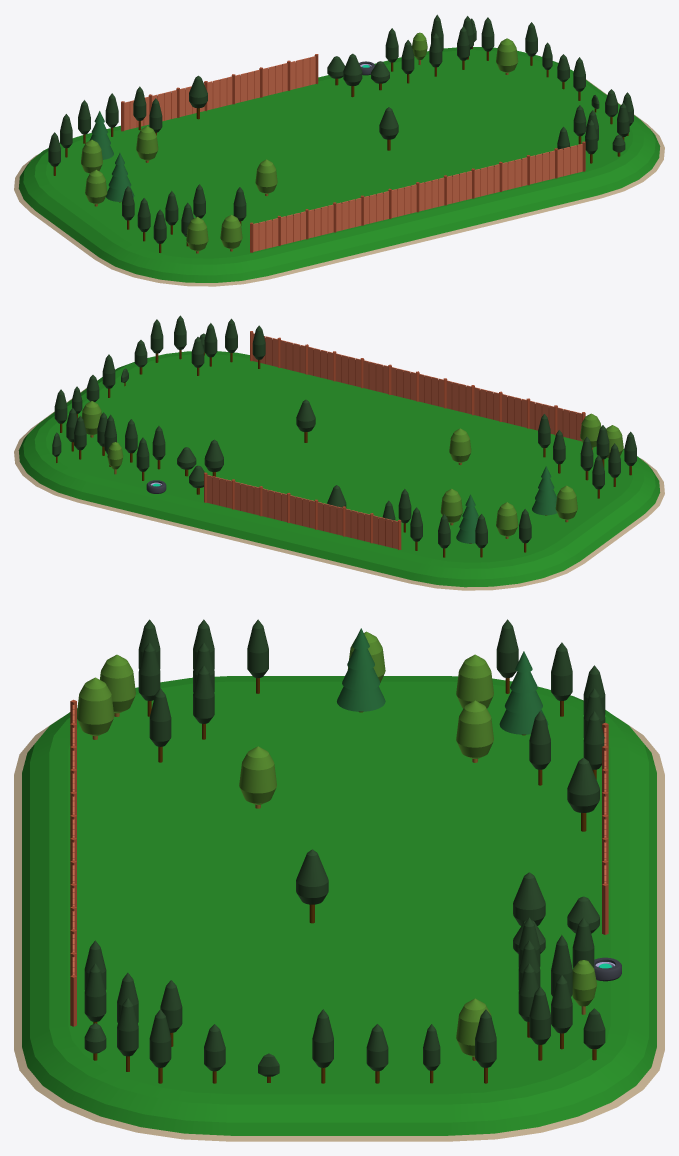
Rendered from racetrack_trees_fences.glb.
3 renders of one model, top to bottom at view 1: azimuth 30°, elevation 25°; view 2: azimuth 150°, elevation 25°; view 3: azimuth 270°, elevation 25°, orthographic. The views are drawn at different scales.
Visible parts, largest first — view 1: mergedBlocks(Clone); view 2: mergedBlocks(Clone); view 3: mergedBlocks(Clone).
Boxes of the visible parts, x1,y1,x2,y2 form: mergedBlocks(Clone): [14, 14, 664, 286]; mergedBlocks(Clone): [14, 315, 664, 590]; mergedBlocks(Clone): [14, 619, 664, 1141].
Size of the model in its own units: 20 by 2.3 by 12.
